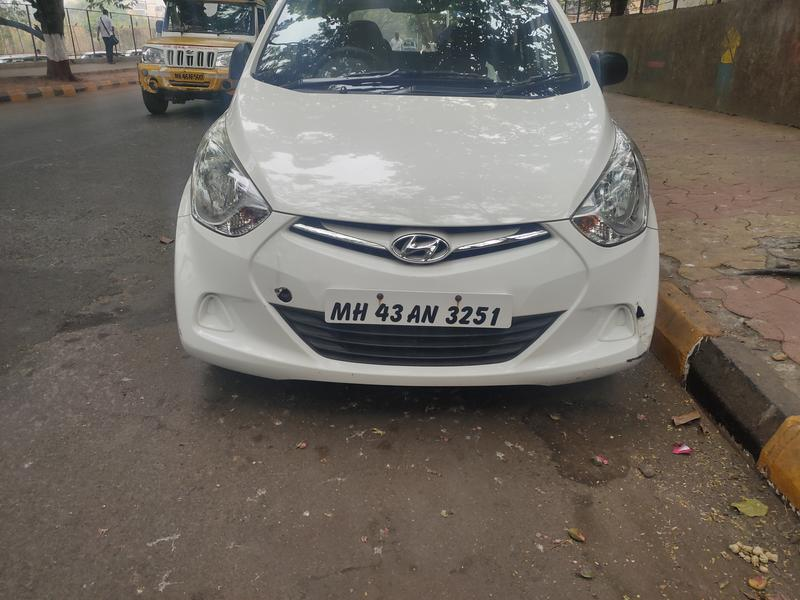license_plate: (313, 286, 527, 341)
